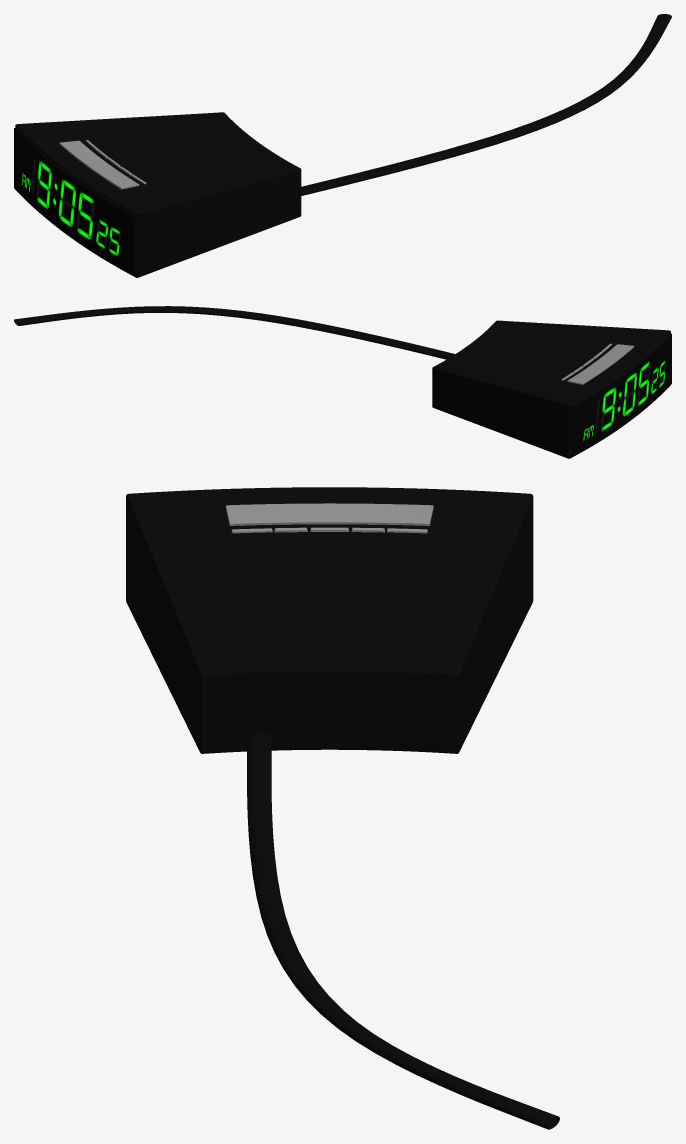
The model's file is clock.fbx.
3 views of the same model, one above another, from view 1: azimuth 30°, elevation 25°; view 2: azimuth 150°, elevation 25°; view 3: azimuth 270°, elevation 25° (orthographic). The views are drawn at different scales.
Parts seen in each view (by area): view 1: Box001, Cord; view 2: Box001, Cord; view 3: Box001, Cord.
Boxes of the visible parts, bbox=[...] form: Box001: bbox=[14, 112, 301, 277]; Cord: bbox=[301, 14, 671, 195]; Box001: bbox=[432, 320, 671, 458]; Cord: bbox=[14, 306, 454, 359]; Box001: bbox=[126, 487, 533, 753]; Cord: bbox=[247, 733, 559, 1129].
Size of the model in its own units: 141 by 13.14 by 47.33.
